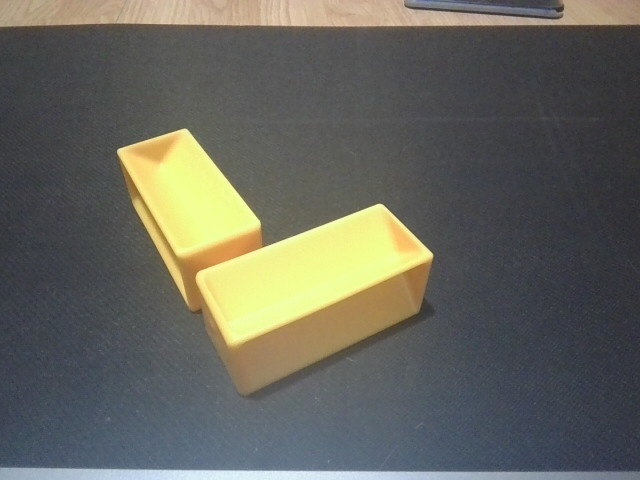YellowSample: (190, 199, 438, 398), (114, 126, 267, 315)
